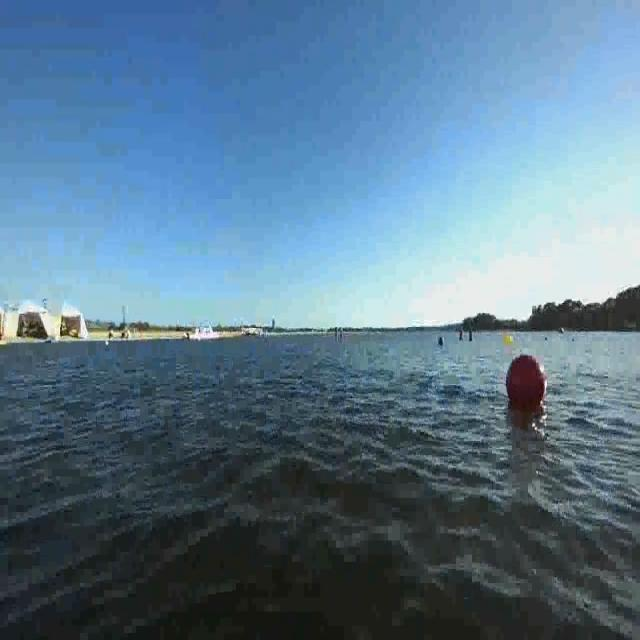red-buoy: (507, 352, 547, 409)
yellow-buoy: (503, 333, 512, 347)
